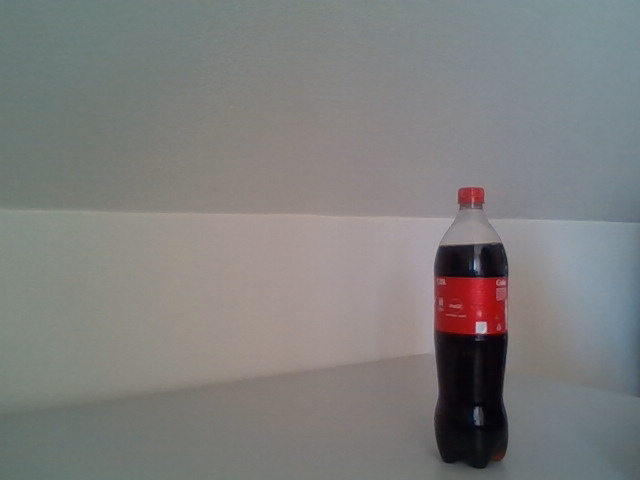bottle: (433, 187, 510, 470)
